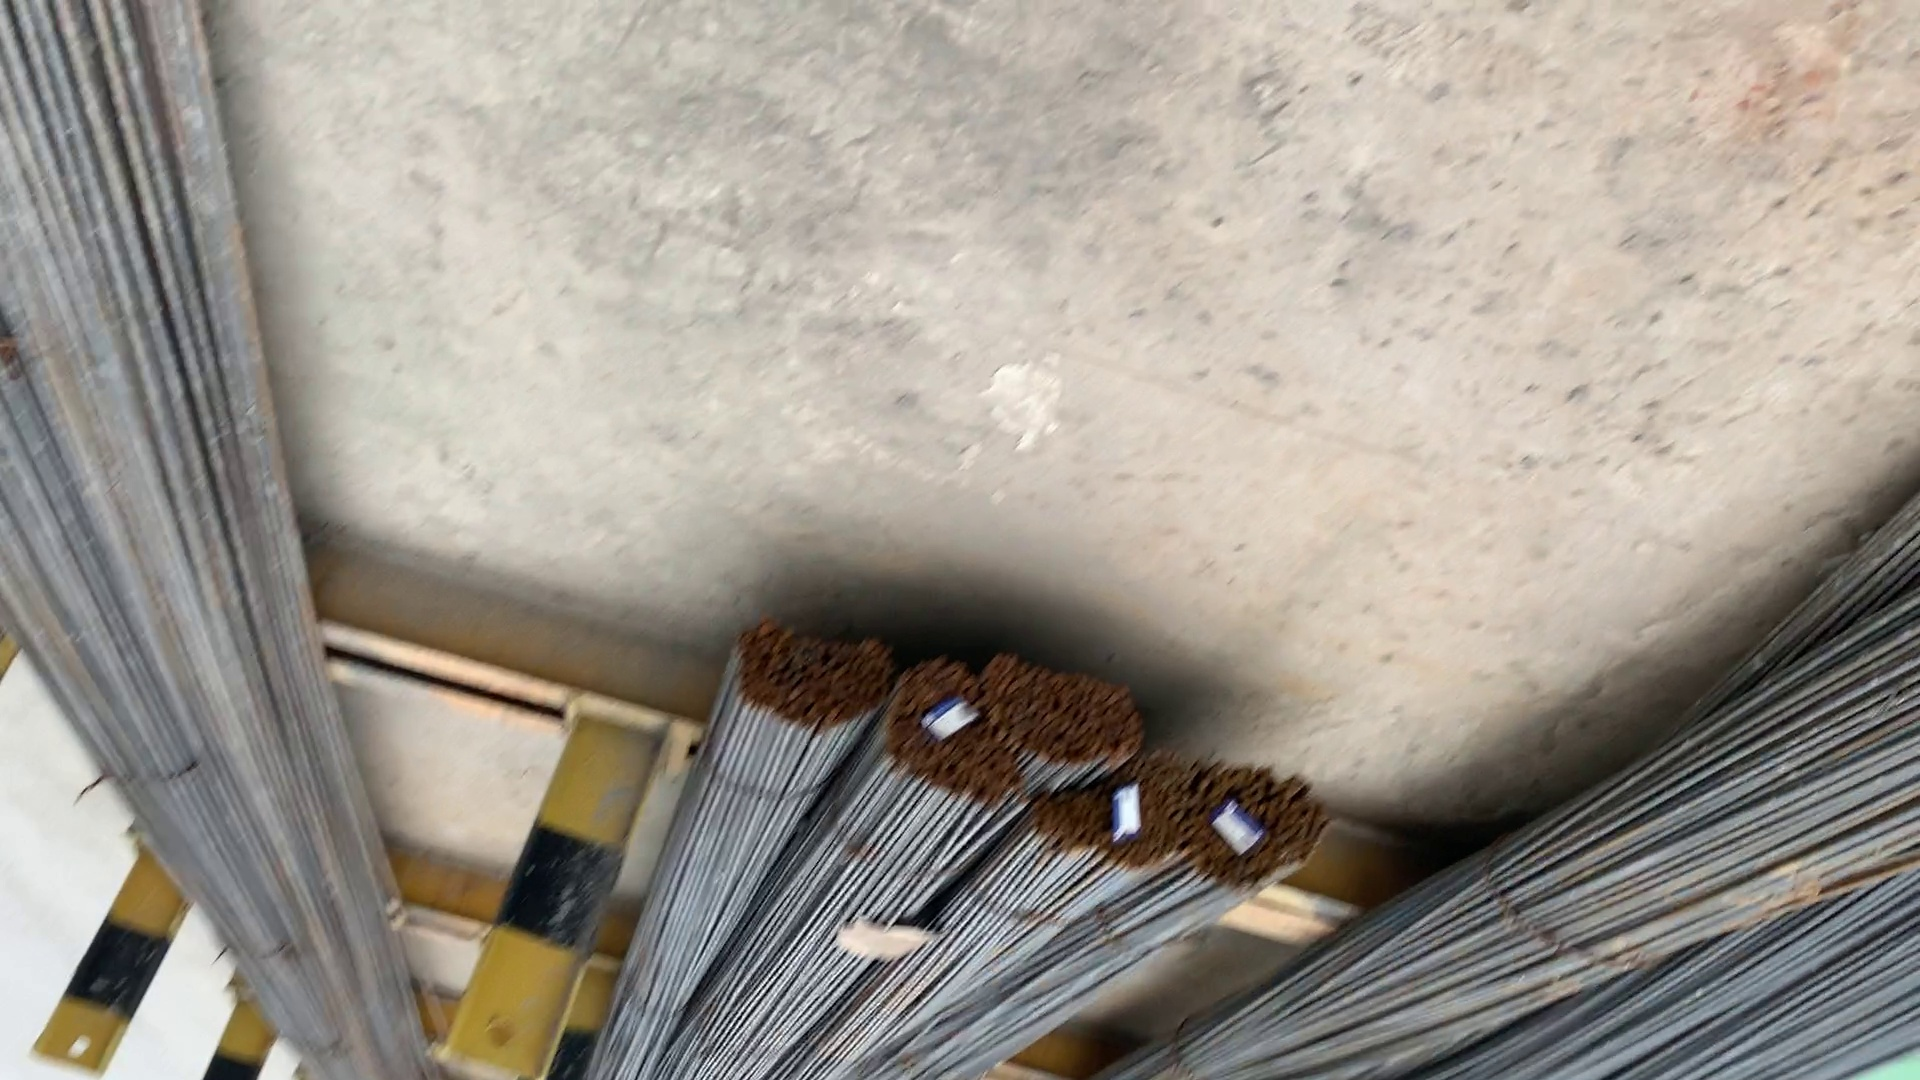rebar: (891, 669, 1015, 819), (1188, 765, 1327, 895), (731, 616, 887, 731), (1000, 654, 1139, 769), (1035, 779, 1182, 865)
